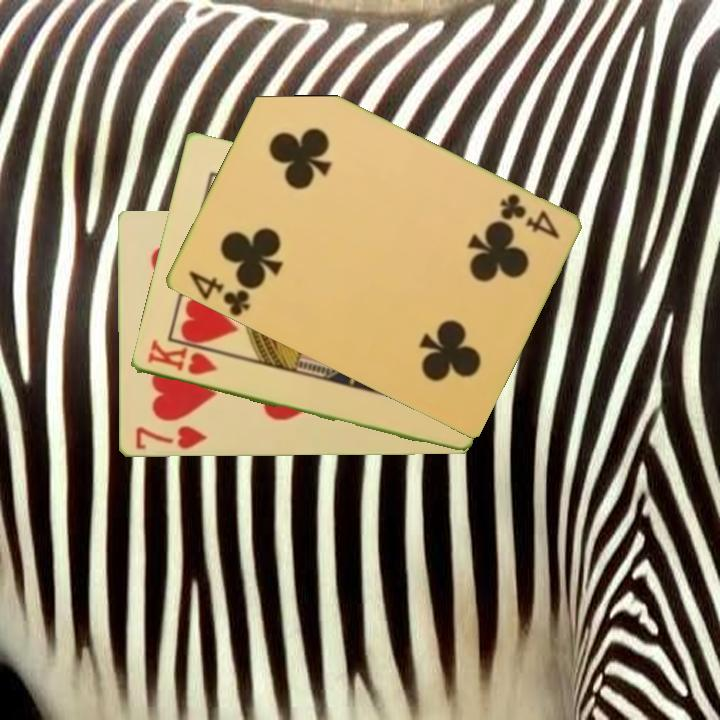4c: (184, 267, 252, 319), (495, 190, 562, 242)
7h: (132, 423, 209, 452)
Kh: (143, 337, 220, 379)
